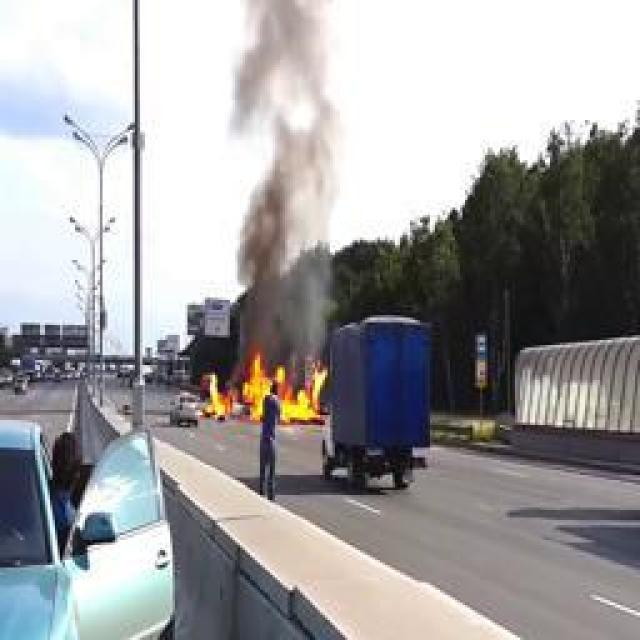Fire: (208, 351, 328, 421)
